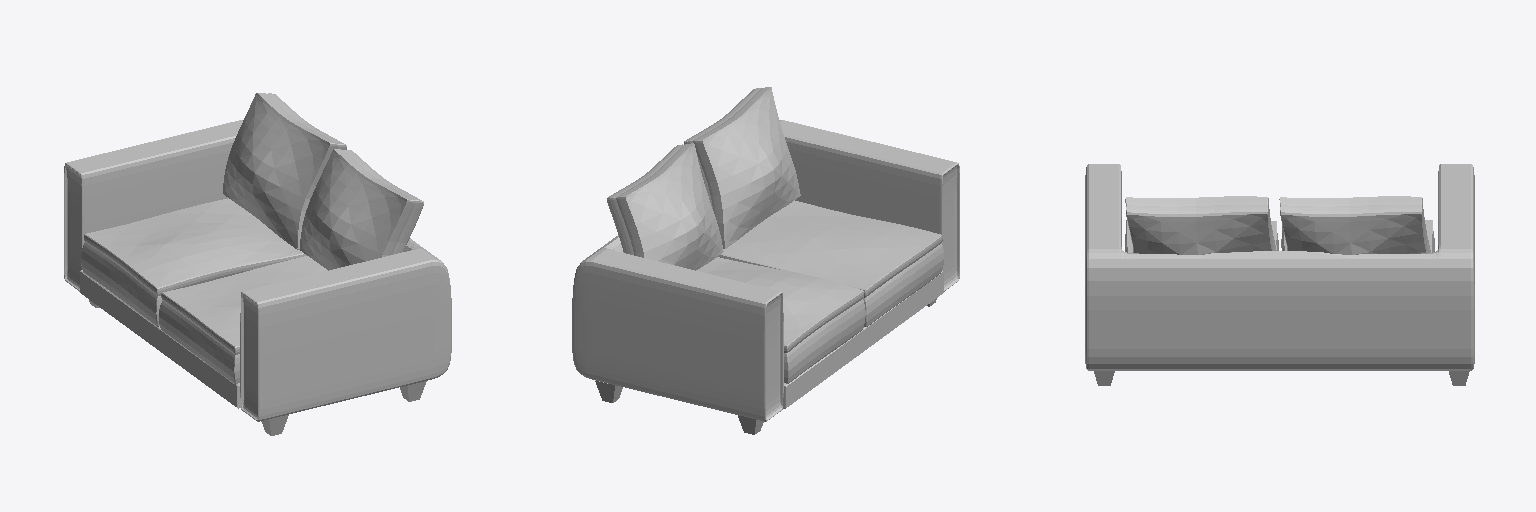
Rendered from Sofa.obj.
3 renders of one model, left to right at view 1: azimuth 30°, elevation 25°; view 2: azimuth 150°, elevation 25°; view 3: azimuth 270°, elevation 25°, orthographic.
Parts seen in each view (by area): view 1: Plane.010, Cube.005, Plane.007, Plane.008, Plane.009; view 2: Plane.010, Cube.005, Plane.008, Plane.007, Plane.009; view 3: Plane.010, Cube.005.
Boxes of the visible parts, box(x1,y1,x2,y2) form: Plane.010: box(64, 120, 451, 421); Cube.005: box(223, 93, 423, 270); Plane.007: box(81, 198, 306, 326); Plane.008: box(159, 256, 327, 384); Plane.009: box(80, 270, 240, 408); Plane.010: box(572, 120, 959, 421); Cube.005: box(607, 87, 800, 270); Plane.008: box(718, 200, 943, 326); Plane.007: box(696, 257, 865, 383); Plane.009: box(783, 271, 943, 408); Plane.010: box(1085, 164, 1474, 370); Cube.005: box(1125, 196, 1430, 254).
Size of the model in its own units: 2.5 by 2.27 by 4.24.